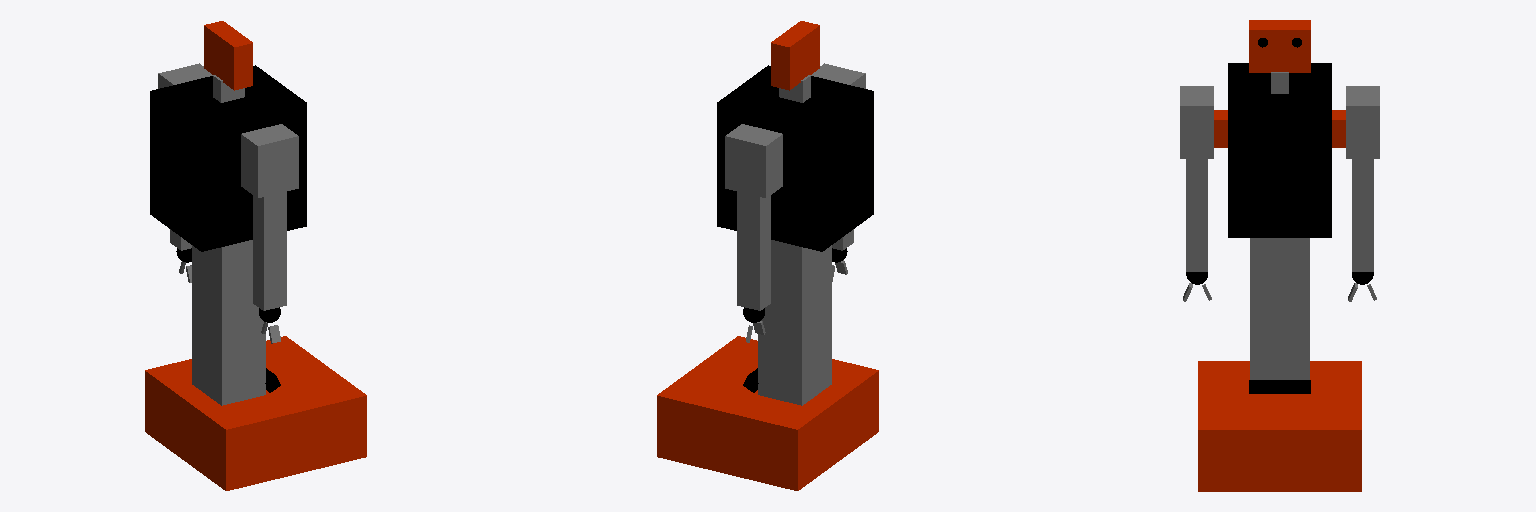
--- Render facts (derived) ---
Views: 3 orthographic renders of the robot side by side, from view 1: azimuth 30°, elevation 25°; view 2: azimuth 150°, elevation 25°; view 3: azimuth 270°, elevation 25°.
Model tangy with 36 links and 35 joints (18 revolute, 17 fixed), rooted at base_link_robot, posed all joints at 0.
Links seen in each view (by area): view 1: base_link_robot, superior_link, base_torso, right_shoulder, head, lower_right_arm, upper_base_torso, upper_right_arm, left_shoulder; view 2: base_link_robot, superior_link, base_torso, left_shoulder, head, lower_left_arm, upper_base_torso, upper_left_arm, right_shoulder; view 3: base_link_robot, superior_link, base_torso, head, right_shoulder, left_shoulder, upper_base_torso, lower_right_arm, lower_left_arm, upper_right_arm, upper_left_arm, skeleton/openni_depth_frame (+2 smaller).
Link boxes in pixels (x1=…): base_link_robot: x1=145, y1=336, x2=366, y2=490; superior_link: x1=150, y1=65, x2=306, y2=251; base_torso: x1=192, y1=262, x2=265, y2=405; right_shoulder: x1=241, y1=124, x2=298, y2=197; head: x1=204, y1=21, x2=252, y2=90; lower_right_arm: x1=253, y1=239, x2=286, y2=310; upper_base_torso: x1=192, y1=240, x2=252, y2=282; upper_right_arm: x1=253, y1=192, x2=286, y2=245; left_shoulder: x1=158, y1=63, x2=212, y2=88; base_link_robot: x1=657, y1=336, x2=878, y2=490; superior_link: x1=717, y1=65, x2=873, y2=251; base_torso: x1=758, y1=262, x2=831, y2=405; left_shoulder: x1=725, y1=124, x2=782, y2=197; head: x1=771, y1=21, x2=819, y2=90; lower_left_arm: x1=737, y1=239, x2=770, y2=310; upper_base_torso: x1=771, y1=240, x2=831, y2=282; upper_left_arm: x1=737, y1=192, x2=770, y2=245; right_shoulder: x1=811, y1=63, x2=865, y2=88; base_link_robot: x1=1198, y1=361, x2=1361, y2=491; superior_link: x1=1228, y1=63, x2=1331, y2=237; base_torso: x1=1250, y1=269, x2=1309, y2=379; head: x1=1249, y1=20, x2=1310, y2=72; right_shoulder: x1=1180, y1=86, x2=1213, y2=158; left_shoulder: x1=1346, y1=86, x2=1379, y2=158; upper_base_torso: x1=1250, y1=238, x2=1309, y2=268; lower_right_arm: x1=1186, y1=207, x2=1207, y2=271; lower_left_arm: x1=1352, y1=207, x2=1373, y2=271; upper_right_arm: x1=1186, y1=159, x2=1207, y2=206; upper_left_arm: x1=1352, y1=159, x2=1373, y2=206; skeleton/openni_depth_frame: x1=1249, y1=380, x2=1310, y2=393.
Bounding box of the posed robot: 0.513 × 0.585 × 1.35 m (x, y, z).
Geometry: primitives only (box / cylinder / sphere), no mesh files.

URDF robot description (tangy):
<?xml version="1.0" ?>
<!-- =================================================================================== -->
<!-- |    This document was autogenerated by xacro from [local-path]/Documents/TangerineModel.urdf.xacro | -->
<!-- |    EDITING THIS FILE BY HAND IS NOT RECOMMENDED                                 | -->
<!-- =================================================================================== -->
<robot name="tangy" xmlns:xacro="http://www.ros.org/wiki/xacro" xmlns:controller="http://playerstage.sourceforge.net/gazebo/xmlschema/#controller" >
  <!-- .......................MACROS.................... -->
  <!-- ....................... END MACROS.................... -->
  <!--.................ROS_CONTROL PLUGIN........... -->
  <gazebo>
    <plugin name="gazebo_ros_control" filename="libgazebo_ros_control.so">
      <robotNamespace></robotNamespace>
      <robotSimType>gazebo_ros_control/DefaultRobotHWSim</robotSimType>
    </plugin>
  </gazebo>
  
  <!-- ................BASE................. -->
<!--  <link name="root_frame_dummy">
    <visual>
      <geometry>
        <box size="0 0 0"/>
      </geometry>
    </visual>
    <inertial>
      <mass value="0.001"/>
      <inertia ixx="0.00001" ixy="0" ixz="0" iyy="0.00001" iyz="0" izz="0.00001"/>
    </inertial>
    <origin xyz="0 0 0"/>
  </link>
  <joint name="root_frame_to_base_torso" type="planar">
    <limit effort="1000.0" lower="0" upper="0" velocity="0"/>
    <parent link="root_frame_dummy"/>
    <child link="base_link_robot"/>
    <origin xyz="0 0 .1"/>
  </joint>-->
  <link name="base_link_robot">
    <visual>
      <geometry>
        <box size="0.48 0.48 0.2"/>
      </geometry>
      <material name="orange">
        <color rgba=".8 .2 0 1"/>
      </material>
    </visual>
    <collision>
      <geometry>
        <cylinder length="0.18" radius="0.2"/>
      </geometry>
    </collision>
    <inertial>
      <mass value="25"/>
      <inertia ixx="1" ixy="0.0" ixz="0.0" iyy="1" iyz="0.0" izz="1"/>
    </inertial>
    <origin xyz="0 0 0"/>
  </link>
  <gazebo reference="base_link">
    <material>Gazebo/Red</material>
  </gazebo>
  <joint name="base_link_to_torso" type="fixed">
    <axis xyz="1 0 0"/>
    <limit effort="1000.0" lower="0" upper="0" velocity="0"/>
    <parent link="base_link_robot"/>
    <child link="base_torso"/>
    <origin xyz="-0.093 0 0.3"/>
  </joint>
  <link name="base_torso">
    <visual>
      <geometry>
        <box size="0.176 0.15 0.4"/>
      </geometry>
      <material name="grey">
        <color rgba="0.5 0.5 0.5 1"/>
      </material>
      <origin rpy="0 0 1.57075"/>
    </visual>
    <collision>
      <geometry>
        <cylinder length="0.38" radius="0.074"/>
      </geometry>
    </collision>
    <inertial>
      <mass value="15"/>
      <inertia ixx="1" ixy="0.0" ixz="0.0" iyy="1" iyz="0.0" izz="1"/>
    </inertial>
  </link>
  <gazebo reference="base_torso">
    <material>Gazebo/Red</material>
  </gazebo>
  <link name="upper_base_torso">
    <visual>
      <geometry>
        <box size="0.176 0.15 0.15"/>
      </geometry>
      <material name="grey"/>
    </visual>
    <collision>
      <geometry>
        <cylinder length="0.14" radius="0.074"/>
      </geometry>
    </collision>
    <inertial>
      <mass value="10"/>
      <inertia ixx="1.0" ixy="0.0" ixz="0.0" iyy="1.0" iyz="0.0" izz="1"/>
    </inertial>
  </link>
  <gazebo reference="upper_base_torso">
    <material>Gazebo/Gray</material>
  </gazebo>
  <joint name="torso_to_upper_base" type="fixed">
    <limit effort="1000.0" lower="0" upper="0" velocity="0"/>
    <parent link="base_torso"/>
    <child link="upper_base_torso"/>
    <origin rpy="0 0 -1.57075" xyz="0 0 0.275"/>
  </joint>
  <link name="superior_link">
    <visual>
      <geometry>
        <box size="0.305 0.360 0.4"/>
      </geometry>
      <material name="black">
        <color rgba="0 0 0 1"/>
      </material>
    </visual>
    <collision>
      <geometry>
        <cylinder length="0.38" radius="0.15"/>
      </geometry>
    </collision>
    <inertial>
      <mass value="10"/>
      <inertia ixx=".5" ixy="0.0" ixz="0.0" iyy=".5" iyz="0.0" izz=".5"/>
    </inertial>
  </link>
  <gazebo reference="superior_link">
    <material>Gazebo/Black</material>
  </gazebo>
  <joint name="upper_base_to_superior_link" type="fixed">
    <limit effort="1000.0" lower="0" upper="0" velocity="0"/>
    <parent link="upper_base_torso"/>
    <child link="superior_link"/>
    <origin xyz="0 0 0.275"/>
  </joint>
  <link name="skeleton/openni_depth_frame">
    <visual>
      <geometry>
        <box size="0.04 0.18 0.04"/>
      </geometry>
      <material name="grey">
        <color rgba="0 0 0 0.5"/>
      </material>
    </visual>
    <collision>
      <geometry>
        <box size="0.02 0.15 0.02"/>
      </geometry>
    </collision>
    <inertial>
      <mass value="0.01"/>
      <inertia ixx=".0001" ixy="0.0" ixz="0.0" iyy=".0001" iyz="0.0" izz=".0001"/>
    </inertial>
  </link>
  <joint name="superior_link_to_openni_depth_frame" type="fixed">
    <limit effort="1000.0" lower="0" upper="0" velocity="0"/>
    <parent link="superior_link"/>
    <child link="skeleton/openni_depth_frame"/>
    <origin rpy="0 -0.429204 1.57075" xyz="0 0.10 -0.72"/>
  </joint>
  <joint name="skeleton/openni_depth_frame_rgb_optical_frame_joint" type="fixed">
    <origin rpy="-1.57079632679 0.0 -1.57079632679"/>    
    <parent link="skeleton/openni_depth_frame"/>
    <child link="skeleton/openni_depth_frame_rgb_optical_frame"/>
  </joint>
  <link name="skeleton/openni_depth_frame_rgb_optical_frame" />
  <gazebo reference="skeleton/openni_depth_frame">
    <sensor name="skeleton/openni_depth_frame_rgb_sensor" type="depth">
      <always_on>true</always_on>
      <update_rate>20</update_rate>
      <camera>
        <horizontal_fov>1.047</horizontal_fov>
        <image>
          <format>R8G8B8</format>
          <width>200</width>
          <height>200</height>
        </image>
        <clip>
          <near>0.5</near>
          <far>5</far>
        </clip>
      </camera>
      <plugin filename="libgazebo_ros_openni_kinect.so" name="skeleton/openni_depth_frame_rgb_link_controller">
        <alwaysOn>true</alwaysOn>
        <updateRate>20</updateRate>
        <cameraName>skeleton/openni_depth_frame</cameraName>
        <imageTopicName>/skeleton/openni_depth_frame/rgb/image_raw</imageTopicName>
        <cameraInfoTopicName>/skeleton/openni_depth_frame/rgb/camera_info</cameraInfoTopicName>
        <pointCloudTopicName>/skeleton/openni_depth_frame/depth_registered/points</pointCloudTopicName>
        <depthImageTopicName>/skeleton/openni_depth_frame/depth_registered/image</depthImageTopicName>
        <depthImageCameraInfoTopicName>/skeleton/openni_depth_frame/depth_registered/camera_info</depthImageCameraInfoTopicName>
        <frameName>skeleton/openni_depth_frame_rgb_optical_frame</frameName>
        <pointCloudCutoff>0.05</pointCloudCutoff>
        <hackBaseline>0.07</hackBaseline>
        <distortionK1>0.0</distortionK1>
        <distortionK2>0.0</distortionK2>
        <distortionK3>0.0</distortionK3>
        <distortionT1>0.0</distortionT1>
        <distortionT2>0.0</distortionT2>
      </plugin>
    </sensor>
    <material value="Gazebo/Red"/>
  </gazebo> 
  <!-- ................END BASE................. -->
  <!-- ................HEAD................. -->
  <link name="neck_link">
    <visual>
      <geometry>
        <box size="0.05 0.08 0.07"/>
      </geometry>
      <material name="grey"/>
    </visual>
    <collision>
      <geometry>
        <cylinder length="0.068" radius="0.024"/>
      </geometry>
    </collision>
    <inertial>
      <mass value="0.5"/>
      <inertia ixx=".0001" ixy="0.0" ixz="0.0" iyy=".0001" iyz="0.0" izz=".0001"/>
    </inertial>
  </link>
  <gazebo reference="neck_link">
    <material>Gazebo/Red</material>
  </gazebo>
  <joint name="superior_to_neck_link" type="fixed">
    <limit effort="1000.0" lower="0" upper="0" velocity="0"/>
    <parent link="superior_link"/>
    <child link="neck_link"/>
    <origin xyz="0 0 0.235"/>
  </joint>
  <link name="neck_z_revolute">
    <collision>
      <geometry>
        <cylinder length="0.01" radius="0.01"/>
      </geometry>
    </collision>
    <inertial>
      <mass value="0.01"/>
      <inertia ixx=".00001" ixy="0" ixz="0.0" iyy=".00001" iyz="0.0" izz=".00001"/>
    </inertial>
  </link>
  <joint name="neck_to_z_revolute" type="revolute">
    <axis xyz="0 0 1"/>
    <limit effort="10.0" lower="-0.7853" upper="0.7853" velocity="3"/>
    <parent link="neck_link"/>
    <child link="neck_z_revolute"/>
    <dynamics damping="1" friction="1000"/>
  </joint>
  <transmission name="neck_to_z_revolute_trans">
    <type>transmission_interface/SimpleTransmission</type>
    <joint name="neck_to_z_revolute"/>
    <actuator name="neck_to_z_revolute_motor">
      <hardwareInterface>PositionJointInterface</hardwareInterface>
      <mechanicalReduction>50</mechanicalReduction>
    </actuator>
  </transmission>
  <link name="neck_x_revolute">
    <collision>
      <geometry>
        <cylinder length="0.001" radius="0.001"/>
      </geometry>
    </collision>
    <inertial>
      <mass value="0.01"/>
      <inertia ixx=".00001" ixy="0.0" ixz="0.0" iyy=".00001" iyz="0.0" izz=".00001"/>
    </inertial>
  </link>
  <joint name="z_revolute_to_x_revolute" type="revolute">
    <axis xyz="1 0 0"/>
    <limit effort="10.0" lower="-0.3926" upper="0.3926" velocity="3"/>
    <parent link="neck_z_revolute"/>
    <child link="neck_x_revolute"/>
    <dynamics damping="1" friction="1000"/>
  </joint>
  <transmission name="z_revolute_to_x_revolute_trans">
    <type>transmission_interface/SimpleTransmission</type>
    <joint name="z_revolute_to_x_revolute"/>
    <actuator name="z_revolute_to_x_revolute_motor">
      <hardwareInterface>PositionJointInterface</hardwareInterface>
      <mechanicalReduction>50</mechanicalReduction>
    </actuator>
  </transmission>
  <link name="head">
    <visual>
      <geometry>
        <box size="0.18 0.065 0.14"/>
      </geometry>
      <material name="orange"/>
    </visual>
    <collision>
      <geometry>
        <box size="0.16 0.05 0.12"/>
      </geometry>
    </collision>
    <inertial>
      <mass value="2"/>
      <inertia ixx="0.03" ixy="0.0" ixz="0.0" iyy="0.08" iyz="0.0" izz="0.05"/>
    </inertial>
  </link>
  <gazebo reference="head">
    <material>Gazebo/Red</material>
  </gazebo>
  <joint name="revolute_head" type="fixed">
    <limit effort="1000.0" lower="0" upper="0" velocity="0"/>
    <parent link="neck_x_revolute"/>
    <child link="head"/>
    <origin xyz="0 0 0.1"/>
  </joint>
  <link name="right_eye">
    <visual>
      <geometry>
        <cylinder length="0.015" radius="0.015"/>
      </geometry>
      <material name="black"/>
      <origin rpy="-1.57075 0 0"/>
    </visual>
    <collision>
      <geometry>
        <cylinder length="0.013" radius="0.005"/>
      </geometry>
    </collision>
    <inertial>
      <mass value="0.2"/>
      <inertia ixx=".000001" ixy="0.0" ixz="0.0" iyy="0" iyz="0.0" izz=".000001"/>
    </inertial>
  </link>
  <joint name="right_eye_to_head" type="fixed">
    <limit effort="1000.0" lower="0" upper="0" velocity="0"/>
    <parent link="head"/>
    <child link="right_eye"/>
    <origin xyz="0.05 0.03 0.03"/>
  </joint>
  <link name="left_eye">
    <visual>
      <geometry>
        <cylinder length="0.015" radius="0.015"/>
      </geometry>
      <material name="black"/>
      <origin rpy="-1.57075 0 0"/>
    </visual>
    <collision>
      <geometry>
        <cylinder length="0.013" radius="0.005"/>
      </geometry>
    </collision>
    <inertial>
      <mass value="0.2"/>
      <inertia ixx=".000001" ixy="0.0" ixz="0.0" iyy="0" iyz="0.0" izz=".000001"/>
    </inertial>
  </link>
  <joint name="left_eye_to_head" type="fixed">
    <limit effort="1000.0" lower="0" upper="0" velocity="0"/>
    <parent link="head"/>
    <child link="left_eye"/>
    <origin xyz="-0.05 0.03 0.03"/>
  </joint> 
  <!-- ................END HEAD................. -->
  <!-- ................RIGHT ARM................. -->
  <link name="right_shoulder_link">
    <visual>
      <geometry>
        <box size="0.04 0.07 0.09"/>
      </geometry>
      <material name="orange"/>
    </visual>
    <collision>
      <geometry>
        <cylinder length="0.10" radius="0.035"/>
      </geometry>
    </collision>
    <inertial>
      <mass value=".5"/>
      <inertia ixx=".001" ixy="0.0" ixz="0.0" iyy=".001" iyz="0.0" izz=".0005"/>
    </inertial>
  </link>
  <gazebo reference="right_shoulder_link">
    <material>Gazebo/Gray</material>
  </gazebo>
  <joint name="superior_link_to_right_shoulder_link" type="fixed">
    <axis xyz="1 0 0"/>
    <limit effort="100.0" lower="-3.142" upper="3.142" velocity="1"/>
    <parent link="superior_link"/>
    <child link="right_shoulder_link"/>
    <origin xyz="0.1725 0 0.07"/>
    <dynamics damping="1.5" friction="1000"/>
  </joint>
  <link name="right_shoulder">
    <visual>
      <geometry>
        <box size="0.10 0.14 0.17"/>
      </geometry>
      <material name="grey"/>
    </visual>
    <collision>
      <geometry>
        <cylinder length="0.10" radius="0.04"/>
      </geometry>
    </collision>
    <inertial>
      <mass value="1"/>
      <inertia ixx=".001" ixy="0.0" ixz="0.0" iyy=".001" iyz="0.0" izz=".0008"/>
    </inertial>
  </link>
  <gazebo reference="right_shoulder">
    <material>Gazebo/Gray</material>
  </gazebo>
  <joint name="right_shoulder_x_revolute" type="revolute">
    <axis xyz="1 0 0"/>
    <limit effort="100" lower="-0.34907" upper="3.35103" velocity="3"/>
    <parent link="right_shoulder_link"/>
    <child link="right_shoulder"/>
    <origin xyz="0.07 0 0.02"/>
    <dynamics damping="1" friction="1000"/>
  </joint>
  <transmission name="right_shoulder_x_revolute_trans">
    <type>transmission_interface/SimpleTransmission</type>
    <joint name="right_shoulder_x_revolute"/>
    <actuator name="right_shoulder_x_revolute_motor">
      <hardwareInterface>PositionJointInterface</hardwareInterface>
      <mechanicalReduction>50</mechanicalReduction>
    </actuator>
  </transmission>
  <link name="upper_right_arm_z_revolute">
    <collision>
      <geometry>
        <cylinder length="0.01" radius="0.01"/>
      </geometry>
    </collision>
    <inertial>
      <mass value="0.01"/>
      <inertia ixx=".000001" ixy="0.0" ixz="0.0" iyy=".000001" iyz="0.0" izz=".000001"/>
    </inertial>
  </link>
  <joint name="upper_right_arm_z_revolute_joint" type="revolute">
    <axis xyz="0 0 -1"/>
    <limit effort="100" lower="-1.8326" upper="1.8326" velocity="3"/>
    <parent link="upper_right_arm_y_revolute"/>
    <child link="upper_right_arm_z_revolute"/>
    <origin xyz="0 0 0"/>
    <dynamics damping="1" friction="1000"/>
  </joint>
  <transmission name="upper_right_arm_z_revolute_joint_trans">
    <type>transmission_interface/SimpleTransmission</type>
    <joint name="upper_right_arm_z_revolute_joint"/>
    <actuator name="upper_right_arm_z_revolute_motor">
      <hardwareInterface>PositionJointInterface</hardwareInterface>
      <mechanicalReduction>50</mechanicalReduction>
    </actuator>
  </transmission>
  <link name="upper_right_arm_y_revolute">
    <collision>
      <geometry>
        <cylinder length="0.01" radius="0.01"/>
      </geometry>
    </collision>
    <inertial>
      <mass value="0.01"/>
      <inertia ixx=".000001" ixy="0.0" ixz="0.0" iyy=".000001" iyz="0.0" izz=".000001"/>
    </inertial>
  </link>
  <joint name="upper_right_arm_y_revolute_joint" type="revolute">
    <axis xyz="0 1 0"/>
    <limit effort="75.0" lower="-1.9199" upper="0.08727" velocity="3"/>
    <parent link="right_shoulder"/>
    <child link="upper_right_arm_y_revolute"/>
    <origin xyz="0 0 0"/>
    <dynamics damping="1" friction="1000"/>   
  </joint>
  <transmission name="upper_right_arm_y_revolute_joint_trans">
    <type>transmission_interface/SimpleTransmission</type>
    <joint name="upper_right_arm_y_revolute_joint"/>
    <actuator name="upper_right_arm_y_revolute_joint">
      <hardwareInterface>PositionJointInterface</hardwareInterface>
      <mechanicalReduction>50</mechanicalReduction>
    </actuator>
  </transmission>
  <link name="upper_right_arm">
    <visual>
      <geometry>
        <box size="0.065 0.08 0.17"/>
      </geometry>
      <material name="grey"/>
    </visual>
    <collision>
      <geometry>
        <cylinder length="0.10" radius="0.032"/>
      </geometry>
    </collision>
    <inertial>
      <mass value="1"/>
      <inertia ixx=".003" ixy="0.0" ixz="0.0" iyy=".003" iyz="0.0" izz=".001"/>
    </inertial>
  </link>
  <gazebo reference="upper_right_arm">
    <material>Gazebo/Gray</material>
  </gazebo>
  <joint name="shoulder_to_upper_right_arm" type="fixed">
    <parent link="upper_right_arm_z_revolute"/>
    <child link="upper_right_arm"/>
    <origin xyz="0 0 -0.17"/>
  </joint>
  <joint name="upper_to_lower_right_joint" type="revolute">
    <axis xyz="-1 0 0"/>
    <limit effort="50.0" lower="-2.2515" upper="1.5708" velocity="3"/>
    <parent link="upper_right_arm"/>
    <child link="lower_right_arm_y_revolute"/>
    <origin xyz="0 0 -.085"/>
    <dynamics damping="1" friction="1000"/>
  </joint>
  <transmission name="upper_to_lower_right_joint_trans">
    <type>transmission_interface/SimpleTransmission</type>
    <joint name="upper_to_lower_right_joint"/>
    <actuator name="upper_to_lower_right_joint_motor">
      <hardwareInterface>PositionJointInterface</hardwareInterface>
      <mechanicalReduction>50</mechanicalReduction>
    </actuator>
  </transmission>
  <link name="lower_right_arm_y_revolute">
    <collision>
      <geometry>
        <cylinder length="0.01" radius="0.01"/>
      </geometry>
    </collision>
    <inertial>
      <mass value="0.01"/>
      <inertia ixx=".000001" ixy="0.0" ixz="0.0" iyy=".000001" iyz="0.0" izz=".000001"/>
    </inertial>
    <origin xyz="0 0 0"/>
  </link>
  <joint name="lower_right_joint_to_lower_arm" type="fixed">
    <parent link="lower_right_arm_y_revolute"/>
    <child link="lower_right_arm"/>
    <origin xyz="0 0 -.105"/>
  </joint>
  <link name="lower_right_arm">
    <visual>
      <geometry>
        <box size="0.065 0.08 0.21"/>
      </geometry>
      <material name="grey"/>
    </visual>
    <collision>
      <geometry>
        <cylinder length="0.15" radius="0.032"/>
      </geometry>
    </collision>
    <inertial>
      <mass value="0.5"/>
      <inertia ixx=".002" ixy="0.0" ixz="0.0" iyy=".002" iyz="0.0" izz=".0005"/>
    </inertial>
  </link>
  <gazebo reference="lower_right_arm">
    <material>Gazebo/Gray</material>
  </gazebo>
  <link name="wrist_right_arm_z_revolute">
    <collision>
      <geometry>
        <cylinder length="0.01" radius="0.01"/>
      </geometry>
    </collision>
    <inertial>
      <mass value="0.01"/>
      <inertia ixx=".000001" ixy="0.0" ixz="0.0" iyy=".000001" iyz="0.0" izz=".000001"/>
    </inertial>
  </link>
  <joint name="wrist_right_arm_z_revolute_joint" type="revolute">
    <axis xyz="0 0 -1"/>
    <limit effort="25.0" lower="-1.5708" upper="1.5708" velocity="2"/>
    <parent link="lower_right_arm"/>
    <child link="wrist_right_arm_z_revolute"/>
    <dynamics damping="1" friction="1000"/>
  </joint>
  <transmission name="wrist_right_arm_z_revolute_joint_trans">
    <type>transmission_interface/SimpleTransmission</type>
    <joint name="wrist_right_arm_z_revolute_joint"/>
    <actuator name="wrist_right_arm_z_revolute_joint_motor">
      <hardwareInterface>PositionJointInterface</hardwareInterface>
      <mechanicalReduction>50</mechanicalReduction>
    </actuator>
  </transmission>
  <link name="wrist_right_arm_x_revolute">
    <collision>
      <geometry>
        <cylinder length="0.01" radius="0.01"/>
      </geometry>
    </collision>
    <inertial>
      <mass value="0.01"/>
      <inertia ixx=".000001" ixy="0.0" ixz="0.0" iyy=".000001" iyz="0.0" izz=".000001"/>
    </inertial>
  </link>
  <joint name="wrist_right_arm_x_revolute_joint" type="fixed">
    <parent link="wrist_right_arm_z_revolute"/>
    <child link="wrist_right_arm_x_revolute"/>
  </joint>
  <link name="wrist_right_arm">
    <visual>
      <geometry>
        <sphere radius="0.0325"/>
      </geometry>
      <material name="black"/>
    </visual>
    <collision>
      <geometry>
        <sphere radius="0.02"/>
      </geometry>
    </collision>
    <inertial>
      <mass value="0.25"/>
      <inertia ixx=".00003" ixy="0.0" ixz="0.0" iyy="0" iyz="0.0" izz=".00003"/>
    </inertial>
  </link>
  <gazebo reference="wrist_right_arm">
    <material>Gazebo/Black</material>
  </gazebo>
  <joint name="lower_to_wrist_right_arm" type="revolute">
    <axis xyz="0 1 0"/>
    <limit effort="50" lower="-1.0472" upper="1.48353" velocity="3"/>
    <parent link="wrist_right_arm_x_revolute"/>
    <child link="wrist_right_arm"/>
    <origin xyz="0 0 -0.13"/>
    <dynamics damping=".1" friction="1000"/>
  </joint>
  <transmission name="lower_to_wrist_right_arm_trans">
    <type>transmission_interface/SimpleTransmission</type>
    <joint name="lower_to_wrist_right_arm"/>
    <actuator name="lower_to_wrist_right_arm_motor">
      <hardwareInterface>PositionJointInterface</hardwareInterface>
      <mechanicalReduction>50</mechanicalReduction>
    </actuator>
  </transmission>
  <link name="finger1_right_arm">
    <visual>
      <geometry>
        <box size="0.01 0.01 0.05"/>
      </geometry>
      <origin xyz="0 0 -0.025"/>
      <material name="grey"/>
    </visual>
    <collision>
      <geometry>
        <cylinder length="0.02" radius="0.004"/>
      </geometry>
    </collision>
    <inertial>
      <mass value="0.1"/>
      <inertia ixx=".000001" ixy="0.0" ixz="0.0" iyy="0" iyz="0.0" izz=".000001"/>
    </inertial>
    <dynamics damping="0.7" friction="1000.0"/>
  </link>
  <gazebo reference="finger1_right_arm">
    <material>Gazebo/Gray</material>
  </gazebo>
  <joint name="wrist_to_finger1_right_arm" type="revolute">
    <axis xyz="0 1 0"/>
    <limit effort="50" lower="0" upper="-0.68" velocity="3"/>
    <parent link="wrist_right_arm"/>
    <child link="finger1_right_arm"/>
    <origin rpy="0 0.3926875 0" xyz="-0.01875 0 -0.0375"/>
  </joint>
  <transmission name="wrist_to_finger1_right_arm_trans">
    <type>transmission_interface/SimpleTransmission</type>
    <joint name="wrist_to_finger1_right_arm"/>
    <actuator name="wrist_to_finger1_right_arm_motor">
      <hardwareInterface>PositionJointInterface</hardwareInterface>
      <mechanicalReduction>50</mechanicalReduction>
    </actuator>
  </transmission>
  <link name="finger2_right_arm">
    <visual>
      <geometry>
        <box size="0.01 0.03 0.05"/>
      </geometry>
      <origin xyz="0 0 -0.025"/>
      <material name="grey"/>
    </visual>
    <collision>
      <geometry>
        <cylinder length="0.02" radius="0.004"/>
      </geometry>
    </collision>
    <inertial>
      <mass value="0.1"/>
      <inertia ixx=".000001" ixy="0.0" ixz="0.0" iyy="0" iyz="0.0" izz=".000001"/>
    </inertial>
    <dynamics damping="0.7" friction="1000.0"/>
  </link>
  <gazebo reference="finger2_right_arm">
    <material>Gazebo/Gray</material>
  </gazebo>
  <joint name="wrist_to_finger2_right_arm" type="revolute">
    <axis xyz="0 1 0"/>
    <limit effort="50" lower="0.68" upper="0" velocity="3"/>
    <parent link="wrist_right_arm"/>
    <child link="finger2_right_arm"/>
    <origin rpy="0 -0.3926875 0" xyz="0.01875 0 -0.0375"/> 
  </joint>
  <transmission name="wrist_to_finger2_right_arm_trans">
    <type>transmission_interface/SimpleTransmission</type>
    <joint name="wrist_to_finger2_right_arm"/>
    <actuator name="wrist_to_finger2_right_arm_motor">
      <hardwareInterface>PositionJointInterface</hardwareInterface>
      <mechanicalReduction>50</mechanicalReduction>
    </actuator>
  </transmission>
  <!-- ................END RIGHT ARM................. -->
  <!-- ................LEFT ARM................. -->
  <link name="left_shoulder_link">
    <visual>
      <geometry>
        <box size="0.04 0.07 0.09"/>
      </geometry>
      <material name="orange"/>
    </visual>
    <collision>
      <geometry>
        <cylinder length="0.10" radius="0.035"/>
      </geometry>
    </collision>
    <inertial>
      <mass value=".5"/>
      <inertia ixx=".001" ixy="0.0" ixz="0.0" iyy=".001" iyz="0.0" izz=".0005"/>
    </inertial>
  </link>
  <gazebo reference="left_shoulder_link">
    <material>Gazebo/Gray</material>
  </gazebo>
  <joint name="superior_link_to_left_shoulder_link" type="fixed">
    <axis xyz="1 0 0"/>
    <limit effort="100.0" lower="-0.785375" upper="1.57075" velocity="3"/>
    <parent link="superior_link"/>
    <child link="left_shoulder_link"/>
    <origin xyz="-0.1725 0 0.07"/>
    <dynamics damping="1.5" friction="1000"/>
  </joint>
  <link name="left_shoulder">
    <visual>
      <geometry>
        <box size="0.10 0.14 0.17"/>
      </geometry>
      <material name="grey"/>
    </visual>
    <collision>
      <geometry>
        <cylinder length="0.10" radius="0.04"/>
      </geometry>
    </collision>
    <inertial>
      <mass value="1"/>
      <inertia ixx=".001" ixy="0.0" ixz="0.0" iyy=".001" iyz="0.0" izz=".0008"/>
    </inertial>
  </link>
  <gazebo reference="left_shoulder">
    <material>Gazebo/Gray</material>
  </gazebo>
  <joint name="left_shoulder_x_revolute" type="revolute">
    <axis xyz="1 0 0"/>
    <limit effort="100" lower="-0.34907" upper="3.35103" velocity="3"/>
    <parent link="left_shoulder_link"/>
    <child link="left_shoulder"/>
    <origin xyz="-0.07 0 0.02"/>
    <dynamics damping="1" friction="1000"/>
  </joint>
  <transmission name="left_shoulder_x_revolute_trans">
    <type>transmission_interface/SimpleTransmission</type>
    <joint name="left_shoulder_x_revolute"/>
    <actuator name="left_shoulder_x_revolute_motor">
      <hardwareInterface>PositionJointInterface</hardwareInterface>
      <mechanicalReduction>50</mechanicalReduction>
    </actuator>
  </transmission>
  <link name="upper_left_arm_z_revolute">
    <collision>
      <geometry>
        <cylinder length="0.01" radius="0.01"/>
      </geometry>
    </collision>
    <inertial>
      <mass value="0.01"/>
      <inertia ixx=".000001" ixy="0.0" ixz="0.0" iyy=".000001" iyz="0.0" izz=".000001"/>
    </inertial>
  </link>
  <joint name="upper_left_arm_z_revolute_joint" type="revolute">
    <axis xyz="0 0 1"/>
    <limit effort="100" lower="-1.8326" upper="1.8326" velocity="3"/>
    <parent link="upper_left_arm_y_revolute"/>
    <child link="upper_left_arm_z_revolute"/>
    <origin xyz="0 0 0"/>
    <dynamics damping="1" friction="1000"/>
  </joint>
  <transmission name="upper_left_arm_z_revolute_joint_trans">
    <type>transmission_interface/SimpleTransmission</type>
    <joint name="upper_left_arm_z_revolute_joint"/>
    <actuator name="upper_left_arm_z_revolute_joint_motor">
      <hardwareInterface>PositionJointInterface</hardwareInterface>
      <mechanicalReduction>50</mechanicalReduction>
    </actuator>
  </transmission>
  <link name="upper_left_arm_y_revolute">
    <collision>
      <geometry>
        <cylinder length="0.01" radius="0.01"/>
      </geometry>
    </collision>
    <inertial>
      <mass value="0.01"/>
      <inertia ixx=".000001" ixy="0.0" ixz="0.0" iyy=".000001" iyz="0.0" izz=".000001"/>
    </inertial>
  </link>
  <joint name="upper_left_arm_y_revolute_joint" type="revolute">
    <axis xyz="0 -1 0"/>
    <limit effort="75.0" lower="-1.9198" upper="0.08727" velocity="3"/>
    <parent link="left_shoulder"/>
    <child link="upper_left_arm_y_revolute"/>
    <origin xyz="0 0 0"/>
    <dynamics damping="1" friction="1000"/>   
  </joint>
  <transmission name="upper_left_arm_y_revolute_joint_trans">
    <type>transmission_interface/SimpleTransmission</type>
    <joint name="upper_left_arm_y_revolute_joint"/>
    <actuator name="upper_left_arm_y_revolute_joint_motor">
      <hardwareInterface>PositionJointInterface</hardwareInterface>
      <mechanicalReduction>50</mechanicalReduction>
    </actuator>
  </transmission>
  <link name="upper_left_arm">
    <visual>
      <geometry>
        <box size="0.065 0.08 0.17"/>
      </geometry>
      <material name="grey"/>
    </visual>
    <collision>
      <geometry>
        <cylinder length="0.1" radius="0.032"/>
      </geometry>
    </collision>
    <inertial>
      <mass value="1"/>
      <inertia ixx=".003" ixy="0.0" ixz="0.0" iyy=".003" iyz="0.0" izz=".001"/>
    </inertial>
  </link>
  <gazebo reference="upper_left_arm">
    <material>Gazebo/Gray</material>
  </gazebo>
  <joint name="shoulder_to_upper_left_arm" type="fixed">
    <parent link="upper_left_arm_z_revolute"/>
    <child link="upper_left_arm"/>
    <origin xyz="0 0 -0.17"/>
  </joint>
  <joint name="upper_to_lower_left_joint" type="revolute">
    <axis xyz="-1 0 0"/>
    <limit effort="50.0" lower="-2.2515" upper="1.5708" velocity="3"/>
    <parent link="upper_left_arm"/>
    <child link="lower_left_arm_y_revolute"/>
    <origin xyz="0 0 -.085"/>
    <dynamics damping="1" friction="1000"/>
  </joint>
  <transmission name="upper_to_lower_left_joint_trans">
    <type>transmission_interface/SimpleTransmission</type>
    <joint name="upper_to_lower_left_joint"/>
    <actuator name="upper_to_lower_left_joint_motor">
      <hardwareInterface>PositionJointInterface</hardwareInterface>
      <mechanicalReduction>50</mechanicalReduction>
    </actuator>
  </transmission>
  <link name="lower_left_arm_y_revolute">
    <collision>
      <geometry>
        <cylinder length="0.01" radius="0.01"/>
      </geometry>
    </collision>
    <inertial>
      <mass value="0.01"/>
      <inertia ixx=".000001" ixy="0.0" ixz="0.0" iyy=".000001" iyz="0.0" izz=".000001"/>
    </inertial>
    <origin xyz="0 0 0"/>
  </link>
  <joint name="lower_left_joint_to_lower_arm" type="fixed">
    <parent link="lower_left_arm_y_revolute"/>
    <child link="lower_left_arm"/>
    <origin xyz="0 0 -.105"/>
  </joint>
  <link name="lower_left_arm">
    <visual>
      <geometry>
        <box size="0.065 0.08 0.21"/>
      </geometry>
      <material name="grey"/>
    </visual>
    <collision>
      <geometry>
        <cylinder length="0.15" radius="0.032"/>
      </geometry>
    </collision>
    <inertial>
      <mass value="0.5"/>
      <inertia ixx=".002" ixy="0.0" ixz="0.0" iyy=".002" iyz="0.0" izz=".0005"/>
    </inertial>
  </link>
  <gazebo reference="lower_left_arm">
    <material>Gazebo/Gray</material>
  </gazebo>
  <link name="wrist_left_arm_z_revolute">
    <collision>
      <geometry>
        <cylinder length="0.01" radius="0.01"/>
      </geometry>
    </collision>
    <inertial>
      <mass value="0.01"/>
      <inertia ixx=".000001" ixy="0.0" ixz="0.0" iyy=".000001" iyz="0.0" izz=".000001"/>
    </inertial>
  </link>
  <joint name="wrist_left_arm_z_revolute_joint" type="revolute">
    <axis xyz="0 0 1"/>
    <limit effort="25.0" lower="-1.5708" upper="1.5708" velocity="2"/>
    <parent link="lower_left_arm"/>
    <child link="wrist_left_arm_z_revolute"/>
    <dynamics damping="1" friction="1000"/>
  </joint>
  <transmission name="wrist_left_arm_z_revolute_joint_trans">
    <type>transmission_interface/SimpleTransmission</type>
    <joint name="wrist_left_arm_z_revolute_joint"/>
    <actuator name="wrist_left_arm_z_revolute_joint_motor">
      <hardwareInterface>PositionJointInterface</hardwareInterface>
      <mechanicalReduction>50</mechanicalReduction>
    </actuator>
  </transmission>
  <link name="wrist_left_arm_x_revolute">
    <collision>
      <geometry>
        <cylinder length="0.01" radius="0.01"/>
      </geometry>
    </collision>
    <inertial>
      <mass value="0.01"/>
      <inertia ixx=".000001" ixy="0.0" ixz="0.0" iyy=".000001" iyz="0.0" izz=".000001"/>
    </inertial>
  </link>
  <joint name="wrist_left_arm_x_revolute_joint" type="fixed">
    <parent link="wrist_left_arm_z_revolute"/>
    <child link="wrist_left_arm_x_revolute"/>
  </joint>
  <link name="wrist_left_arm">
    <visual>
      <geometry>
        <sphere radius="0.0325"/>
      </geometry>
      <material name="black"/>
    </visual>
    <collision>
      <geometry>
        <sphere radius="0.02"/>
      </geometry>
    </collision>
    <inertial>
      <mass value="0.25"/>
      <inertia ixx=".00003" ixy="0.0" ixz="0.0" iyy="0" iyz="0.0" izz=".00003"/>
    </inertial>
  </link>
  <gazebo reference="wrist_left_arm">
    <material>Gazebo/Black</material>
  </gazebo>
  <joint name="lower_to_wrist_left_arm" type="revolute">
    <axis xyz="0 -1 0"/>
    <limit effort="50" lower="-1.0472" upper="1.48353" velocity="3"/>
    <parent link="wrist_left_arm_x_revolute"/>
    <child link="wrist_left_arm"/>
    <origin xyz="0 0 -0.13"/>
    <dynamics damping=".1" friction="1000"/>
  </joint>
  <transmission name="lower_to_wrist_left_arm_trans">
    <type>transmission_interface/SimpleTransmission</type>
    <joint name="lower_to_wrist_left_arm"/>
    <actuator name="left_to_wrist_left_arm_motor">
      <hardwareInterface>PositionJointInterface</hardwareInterface>
      <mechanicalReduction>50</mechanicalReduction>
    </actuator>
  </transmission>
  <link name="finger1_left_arm">
    <visual>
      <geometry>
        <box size="0.01 0.01 0.05"/>
      </geometry>
      <origin xyz="0 0 -0.025"/>
      <material name="grey"/>
    </visual>
    <collision>
      <geometry>
        <cylinder length="0.02" radius="0.004"/>
      </geometry>
    </collision>
    <inertial>
      <mass value="0.1"/>
      <inertia ixx=".000001" ixy="0.0" ixz="0.0" iyy="0" iyz="0.0" izz=".000001"/>
    </inertial>
    <dynamics damping="0.7" friction="1000.0"/>
  </link>
  <gazebo reference="finger1_left_arm">
    <material>Gazebo/Gray</material>
  </gazebo>
  <joint name="wrist_to_finger1_left_arm" type="revolute">
    <axis xyz="0 1 0"/>
    <limit effort="50" lower="0" upper="-0.68" velocity="3"/>
    <parent link="wrist_left_arm"/>
    <child link="finger1_left_arm"/>
    <origin rpy="0 0.3926875 0" xyz="-0.01875 0 -0.0375"/>
  </joint>
  <transmission name="wrist_to_finger1_left_arm_trans">
    <type>transmission_interface/SimpleTransmission</type>
    <joint name="wrist_to_finger1_left_arm"/>
    <actuator name="wrist_to_finger1_left_arm_motor">
      <hardwareInterface>PositionJointInterface</hardwareInterface>
      <mechanicalReduction>50</mechanicalReduction>
    </actuator>
  </transmission>
  <link name="finger2_left_arm">
    <visual>
      <geometry>
        <box size="0.01 0.03 0.05"/>
      </geometry>
      <origin xyz="0 0 -0.025"/>
      <material name="grey"/>
    </visual>
    <collision>
      <geometry>
        <cylinder length="0.02" radius="0.004"/>
      </geometry>
    </collision>
    <inertial>
      <mass value="0.1"/>
      <inertia ixx=".000001" ixy="0.0" ixz="0.0" iyy="0" iyz="0.0" izz=".000001"/>
    </inertial>
    <dynamics damping="0.7" friction="1000.0"/>
  </link>
  <gazebo reference="finger2_left_arm">
    <material>Gazebo/Gray</material>
  </gazebo>
  <joint name="wrist_to_finger2_left_arm" type="revolute">
    <axis xyz="0 1 0"/>
    <limit effort="50" lower="0.68" upper="0" velocity="3"/>
    <parent link="wrist_left_arm"/>
    <child link="finger2_left_arm"/>
    <origin rpy="0 -0.3926875 0" xyz="0.01875 0 -0.0375"/>
  </joint> 
  <transmission name="wrist_to_finger2_left_arm_trans">
    <type>transmission_interface/SimpleTransmission</type>
    <joint name="wrist_to_finger2_left_arm"/>
    <actuator name="wrist_to_finger2_left_arm_motor">
      <hardwareInterface>PositionJointInterface</hardwareInterface>
      <mechanicalReduction>50</mechanicalReduction>
    </actuator>
  </transmission>
  <!-- ................END LEFT ARM................. -->
  <!-- ................SENSORS...................... 
  <link name="laser_base">
    <visual>
      <geometry>
        <box size="0.02 0.03 0.04"/>
      </geometry>
      <material name="blue">
        <color rgba="0 0 1 .9"/>
      </material>
    </visual>
    <collision>
      <geometry>
        <cylinder length="0.001" radius="0.0001"/>
      </geometry>
    </collision>  
    <inertial>
      <mass value=".001"/>
      <inertia ixx=".000001" ixy="0.0" ixz="0.0" iyy=".000001" iyz="0.0" izz=".000001"/>
    </inertial>
  </link>
  <joint name="laser_base_to_torso" type="fixed">
    <parent link="base_torso"/>
    <child link="laser_base"/>
    <origin rpy="1.5708 0 0" xyz="0.09 0 .06"/>
  </joint>
  <joint name="laser_joint_to_base" type="revolute">
    <axis xyz="1 0 0"/>
    <limit effort="1000.0" lower="-.77" upper=".77" velocity="5"/>
    <parent link="laser_base"/>
    <child link="base_laser"/>
    <origin rpy="0 1.5708 0" xyz="0.025 0 0"/>
  </joint>
  <link name="base_laser">
    <visual>
      <geometry>
        <cylinder length="0.02" radius="0.03"/>
      </geometry>
      <material name="black">
        <color rgba="0 0 0 1"/>
      </material>
    </visual>
    <inertial>
      <mass value=".001"/>
      <inertia ixx=".000001" ixy="0.0" ixz="0.0" iyy=".000001" iyz="0.0" izz=".000001"/>
    </inertial>
    <collision>
      <geometry>
        <cylinder length="0.001" radius="0.0001"/>
      </geometry>
    </collision>
    <origin rpy="0 0 0"/>
  </link>-->

  <!-- ................END SENSORS.................. -->

</robot>
